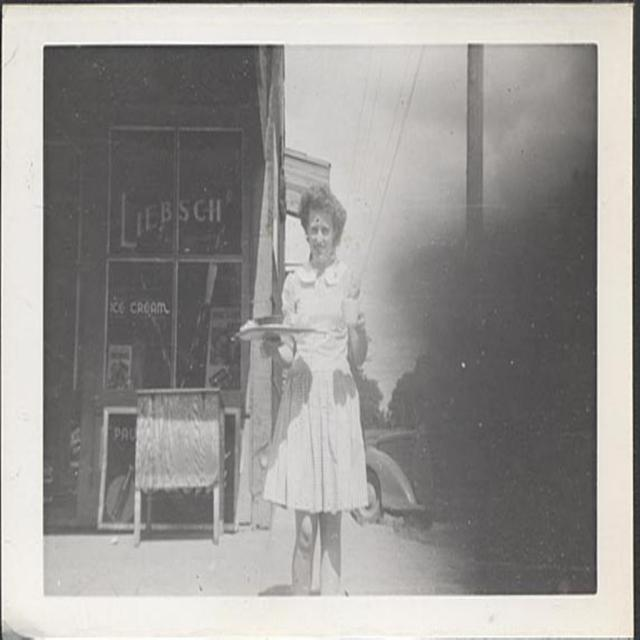nomask: (307, 218, 332, 264)
